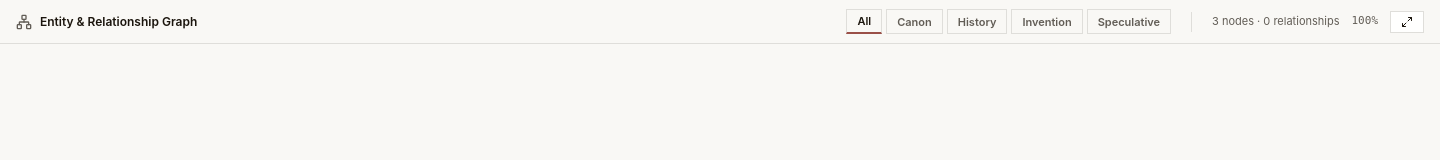
Test: EntityGraphView › filters notes by provenance when a filter button is clicked
expect the text "3 nodes · 0 relationships" is shown: met, box [1212,13,1340,30]
Click the button "Canon": (914, 22) [886,9,943,34]
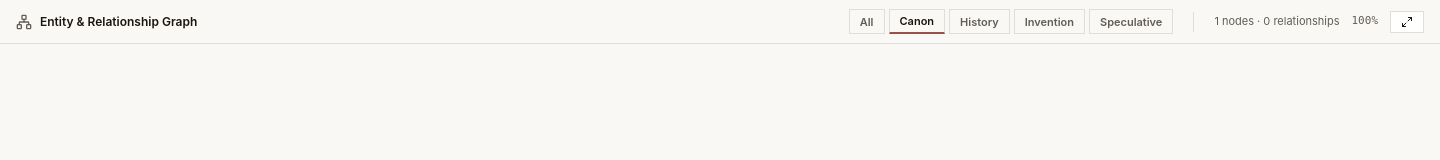
expect the text "1 nodes · 0 relationships" is shown: met, box [1214,13,1340,30]
Click the button "History": (979, 22) [949,9,1010,34]
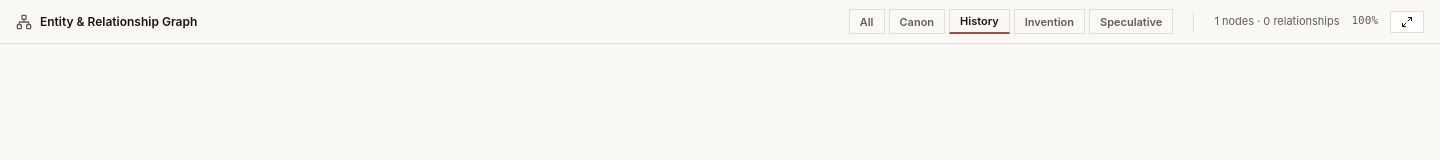
expect the text "1 nodes · 0 relationships" is shown: met, box [1214,13,1340,30]
Click the button "All": (867, 22) [849,9,884,34]
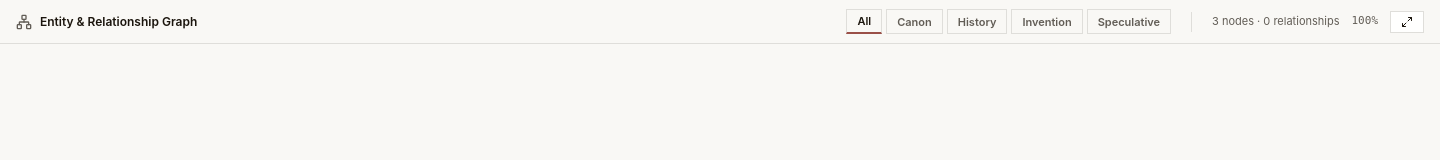
expect the text "3 nodes · 0 relationships" is shown: met, box [1212,13,1340,30]
